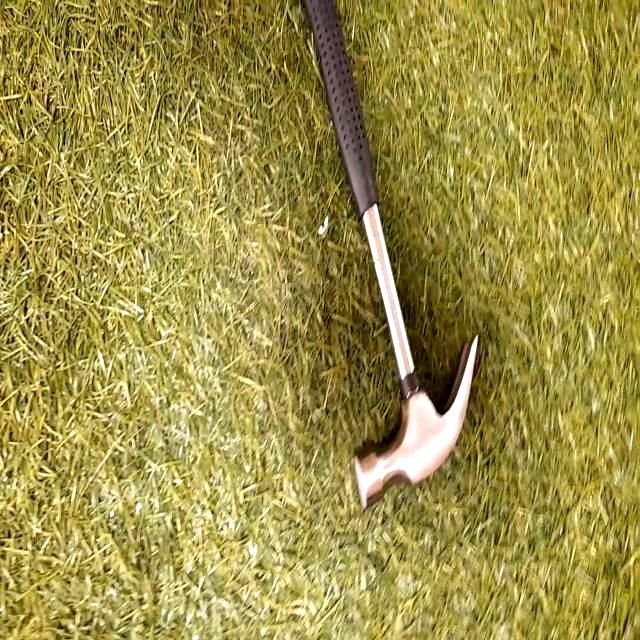hammer: (303, 0, 480, 508)
